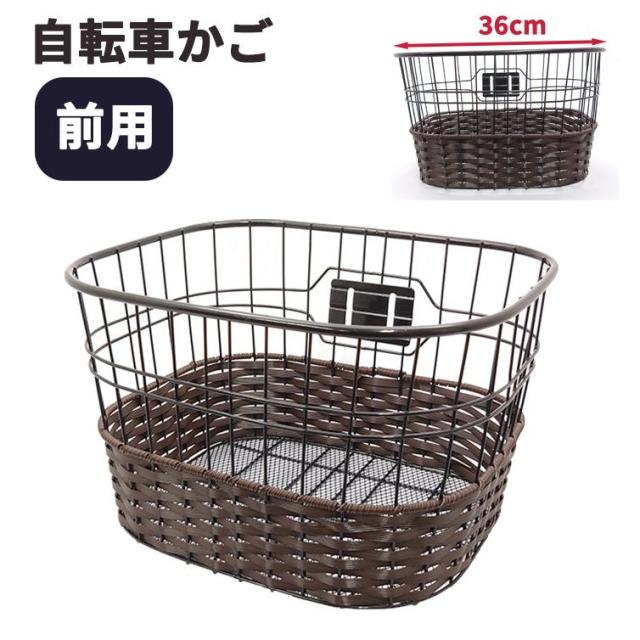basket: (60, 221, 553, 610), (396, 48, 607, 188)
